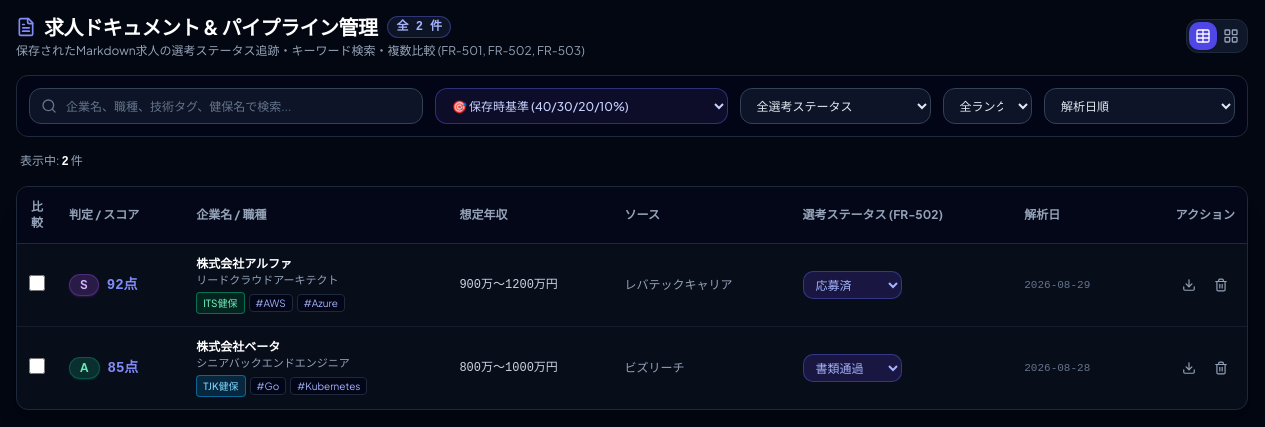
it: JobDashboard Component › switches scoring lens in dashboard filter bar
The image size is (1265, 427).
Note: Switch to Reskilling preset
Step 1. Select "🚀 リスキリング重視 (成長45%/環境25%)" in the 1st dropdown showing "保存時基準" → point(581, 106), box left=435, top=88, right=728, bottom=124
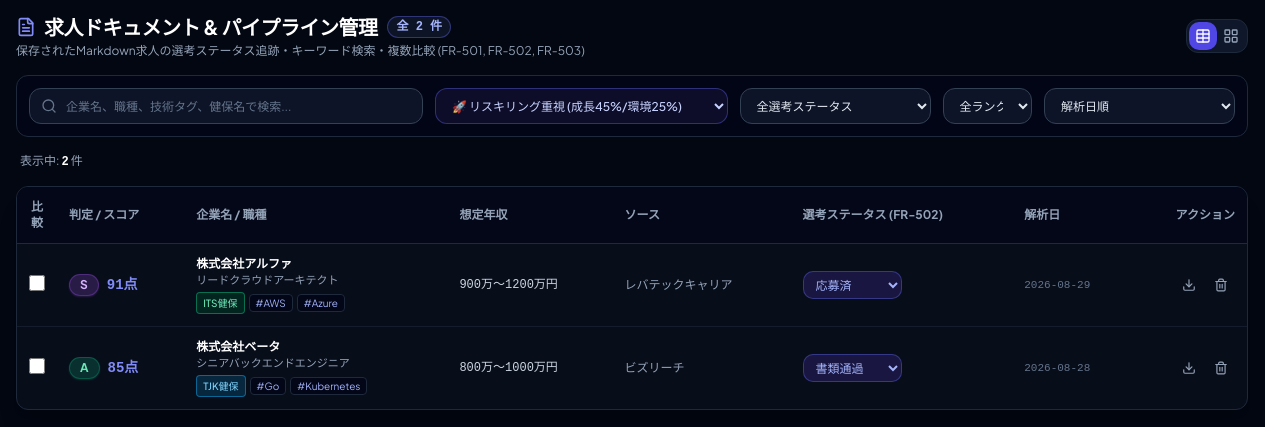
Expected: the text "91点" is shown, left=107, top=275, right=138, bottom=295
